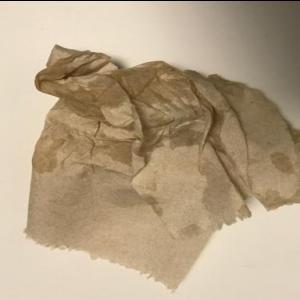Trash: (22, 44, 300, 297)
